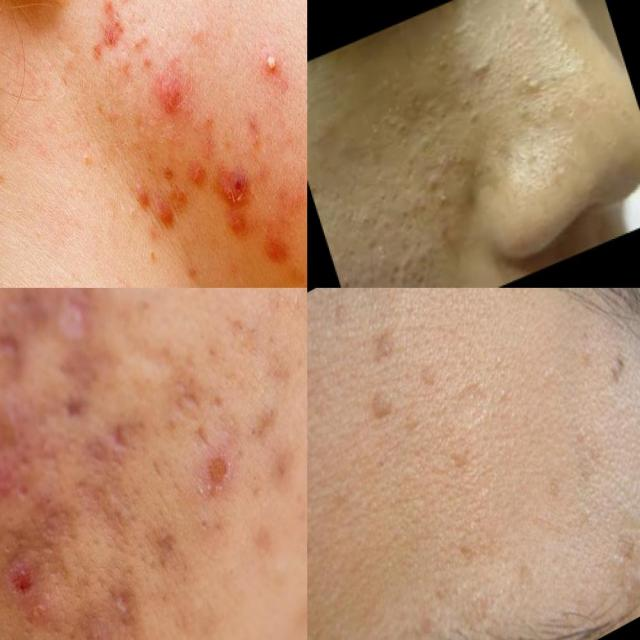8: (146, 154, 214, 242), (147, 64, 195, 139), (0, 427, 29, 526)
blackheads: (29, 288, 109, 371), (0, 312, 34, 399), (215, 157, 254, 222)
dark spot: (390, 177, 470, 274), (423, 79, 492, 163), (74, 127, 124, 206), (370, 91, 420, 154), (361, 240, 421, 288), (120, 17, 158, 71), (507, 58, 546, 107), (333, 247, 367, 288)
whiteheads: (246, 26, 295, 103)
